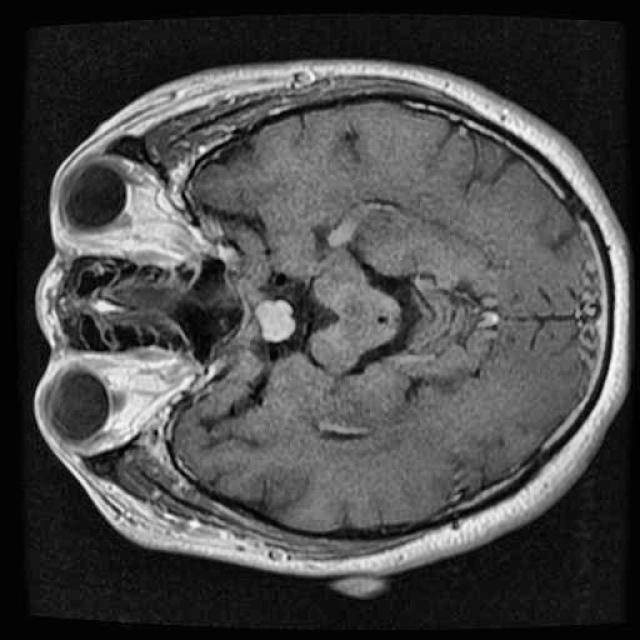Tumor: (251, 294, 302, 350)
